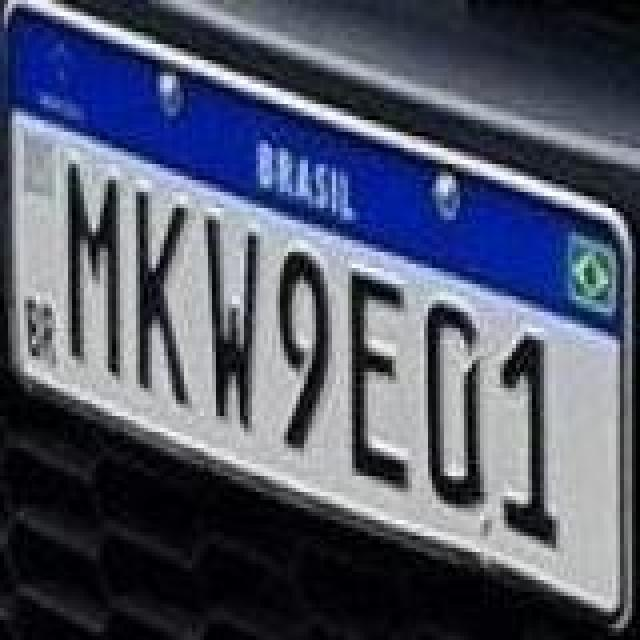1: (496, 328, 560, 552)
9: (274, 244, 334, 460)
D: (424, 298, 488, 510)
E: (346, 264, 414, 496)
K: (134, 184, 194, 408)
M: (66, 156, 126, 380)
W: (200, 208, 264, 432)
